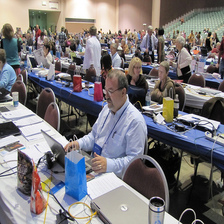laptop: (37, 127, 114, 184), (84, 180, 172, 224), (165, 106, 223, 135)
